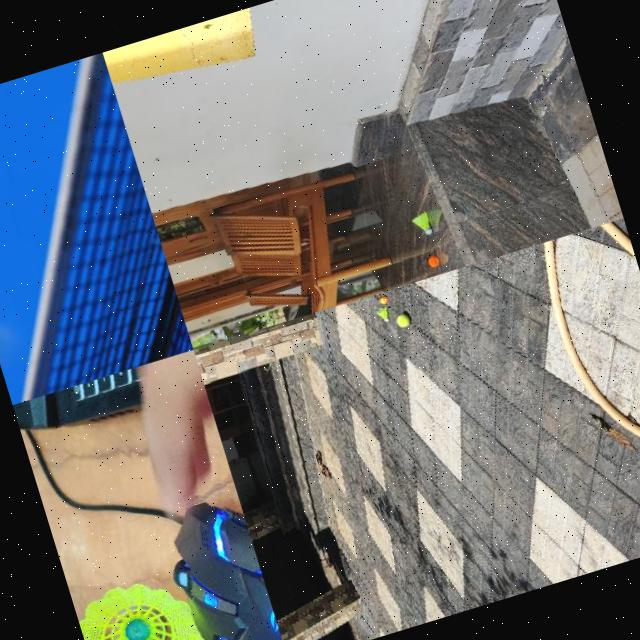ping-pong-ball: (424, 254, 438, 268), (378, 294, 387, 304)
